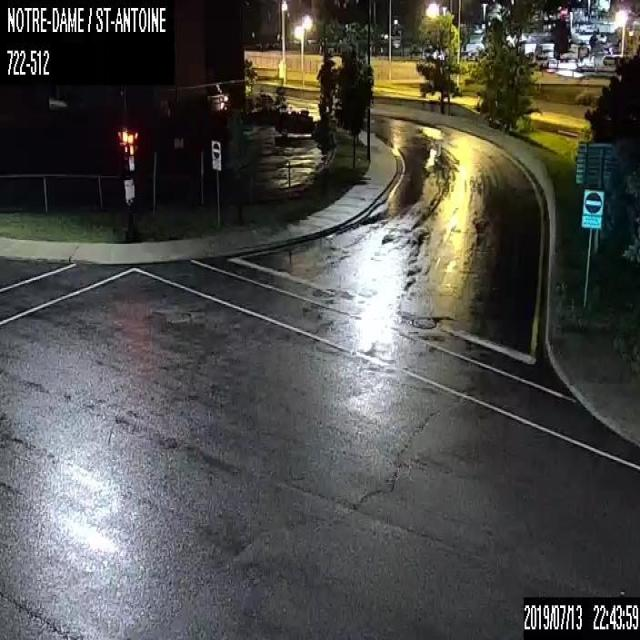vehicle: (274, 109, 320, 136)
